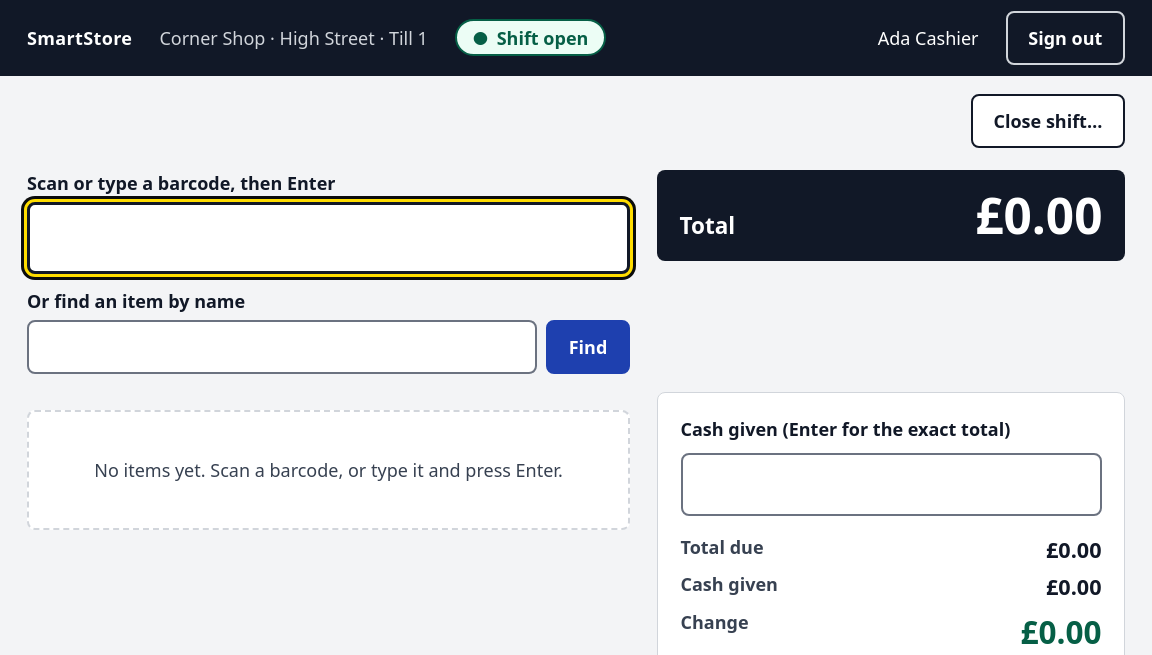
Test: the till shell (UX-35, UX-52, UX-07, UX-08) › UX-33, UX-35: beginning the count turns the till into its counting mode, and the bar says so
The width and height of the screenshot is (1152, 655).
Expected: the text "Shift open" is shown, [497, 25, 588, 51]
Click the button "Close shift…".
click(1048, 121)  # box [971, 94, 1125, 148]
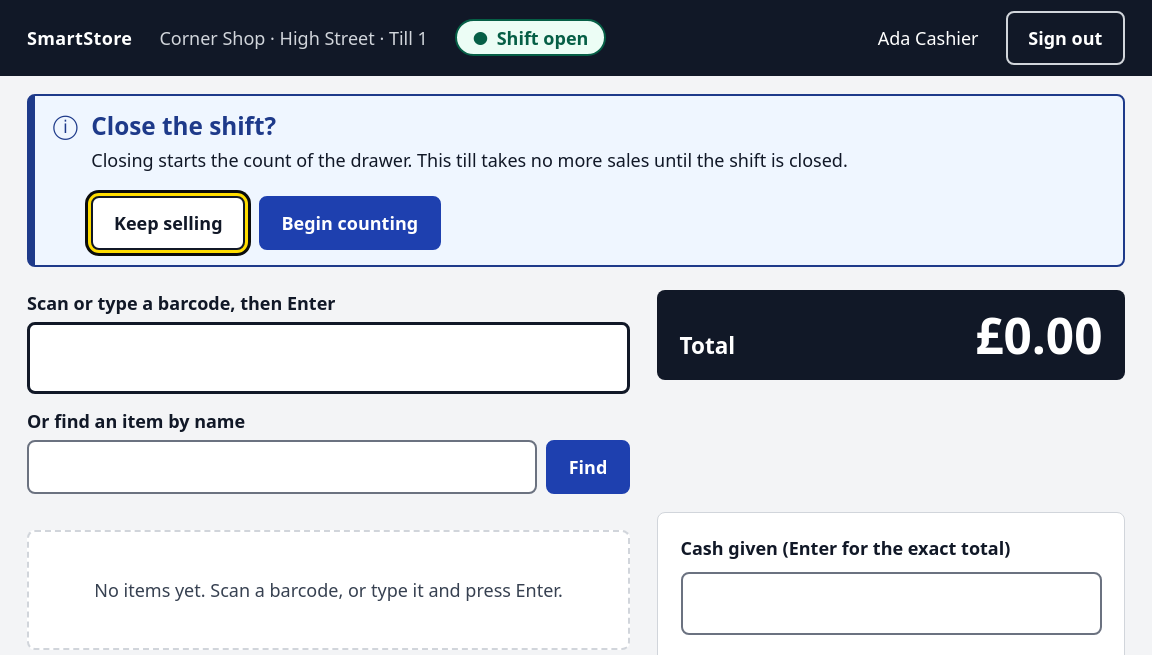
Click the button "Begin counting".
click(350, 223)  # box [259, 196, 441, 250]
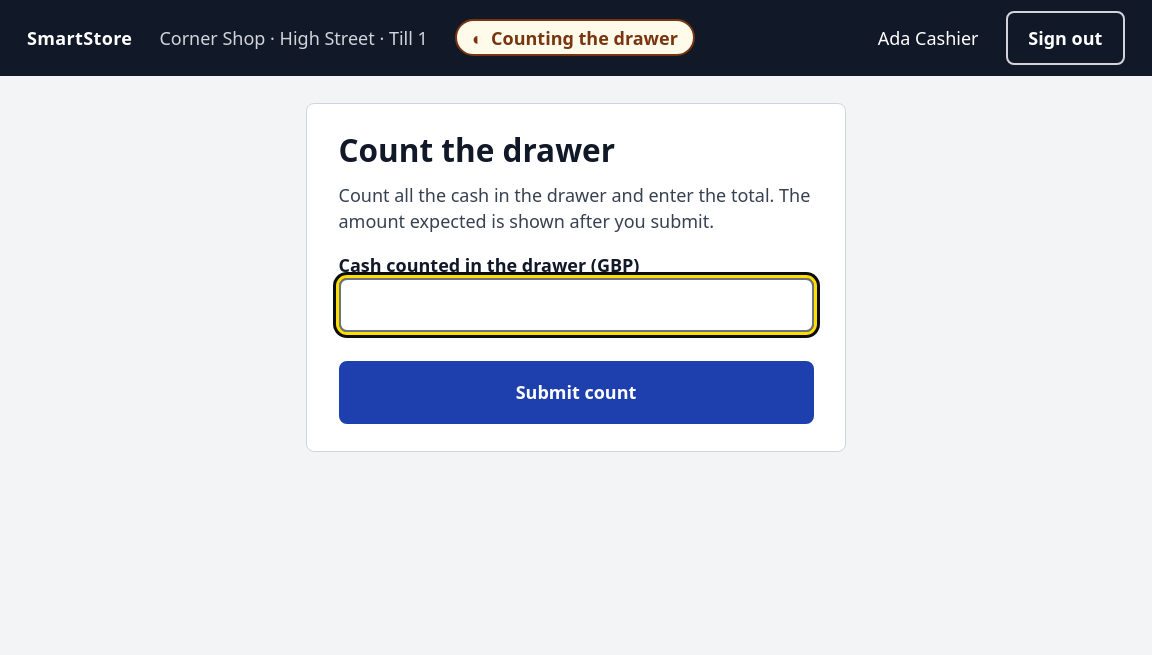
Expected: the heading "Count the drawer" is shown, [338, 128, 615, 171]
Expected: the text "Counting the drawer" is shown, [491, 25, 678, 51]
Expected: the label labelled "Scan or type a barcode, then Enter" is gone
